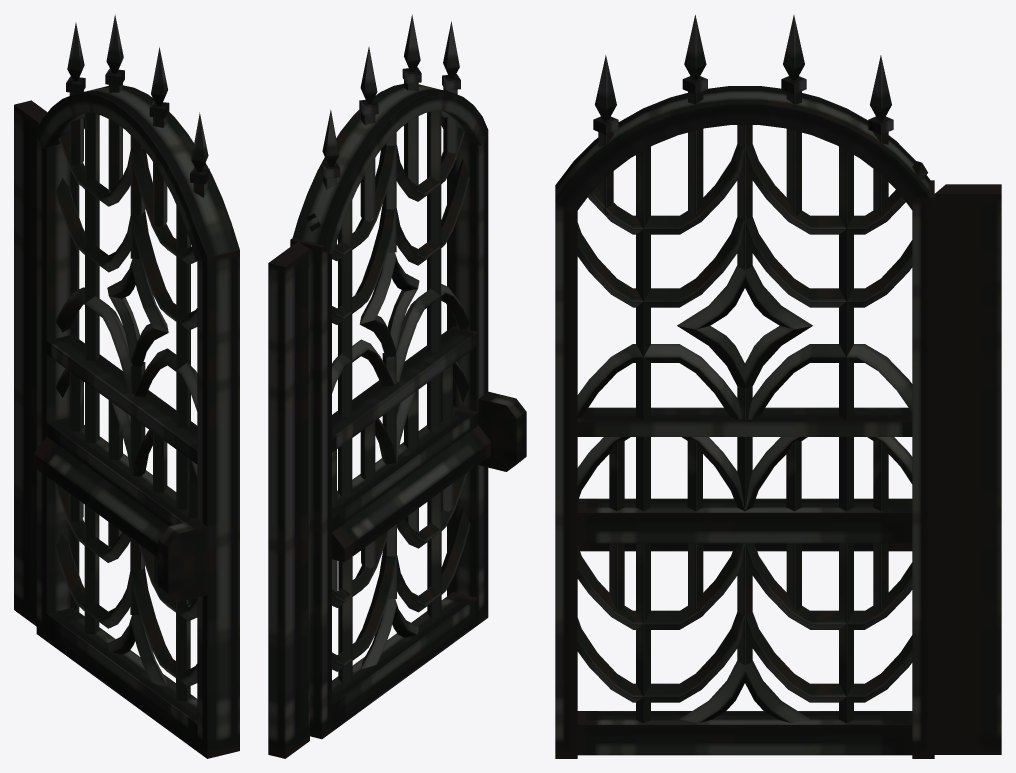
File: EnvBdgMD_Forest_MothersGarden_A_Gate_L.FBX
The picture shows the model from 3 angles, left to right: view 1: azimuth 30°, elevation 25°; view 2: azimuth 150°, elevation 25°; view 3: azimuth 270°, elevation 25°; orthographic projection. The views are drawn at different scales.
Parts seen in each view (by area): view 1: EnvBdgMD_Forest_MothersGarden_A_Gate_L; view 2: EnvBdgMD_Forest_MothersGarden_A_Gate_L; view 3: EnvBdgMD_Forest_MothersGarden_A_Gate_L.
Part boxes in pixels (x1,y1,x2,y2): EnvBdgMD_Forest_MothersGarden_A_Gate_L: [14, 14, 239, 758]; EnvBdgMD_Forest_MothersGarden_A_Gate_L: [268, 14, 526, 758]; EnvBdgMD_Forest_MothersGarden_A_Gate_L: [555, 15, 1001, 758].
Bounding box in the file's own units: 41.25 × 364 × 200.
1 material, 1 textured.
